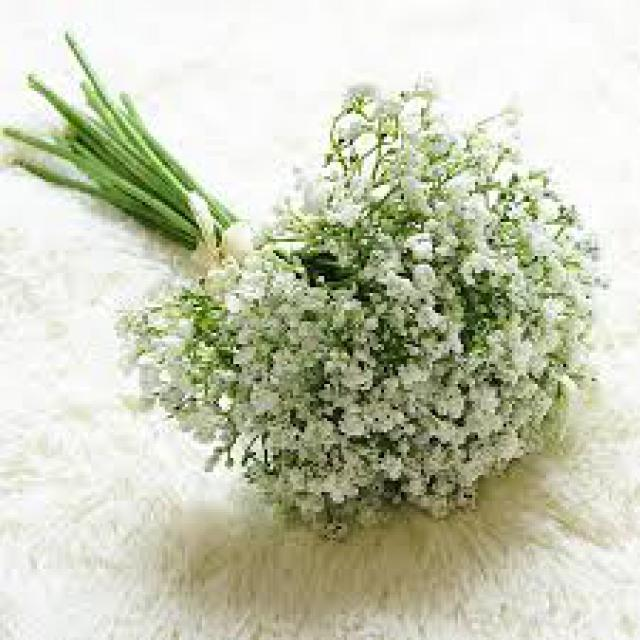gypsophila: (175, 100, 614, 516)
